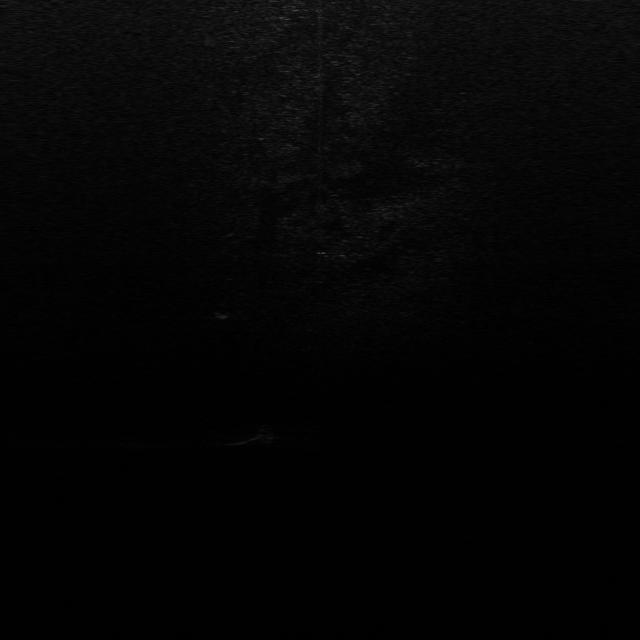ball: (248, 424, 278, 446)
circle cage: (210, 302, 236, 320)
